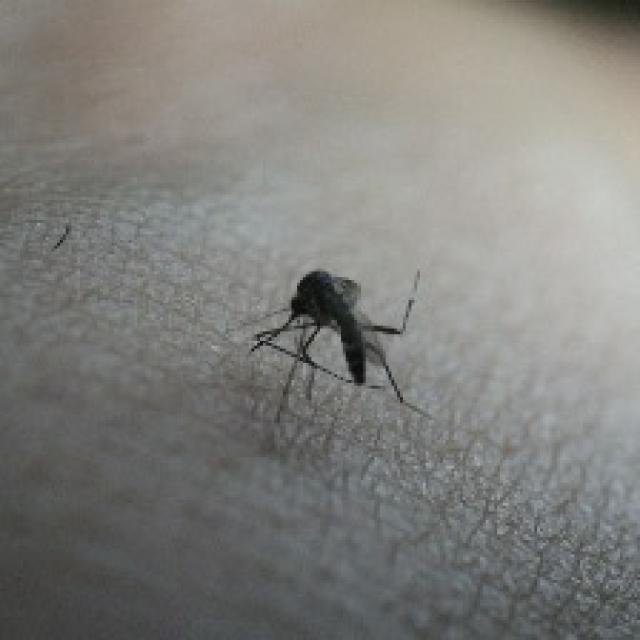aedes: (246, 263, 428, 423)
